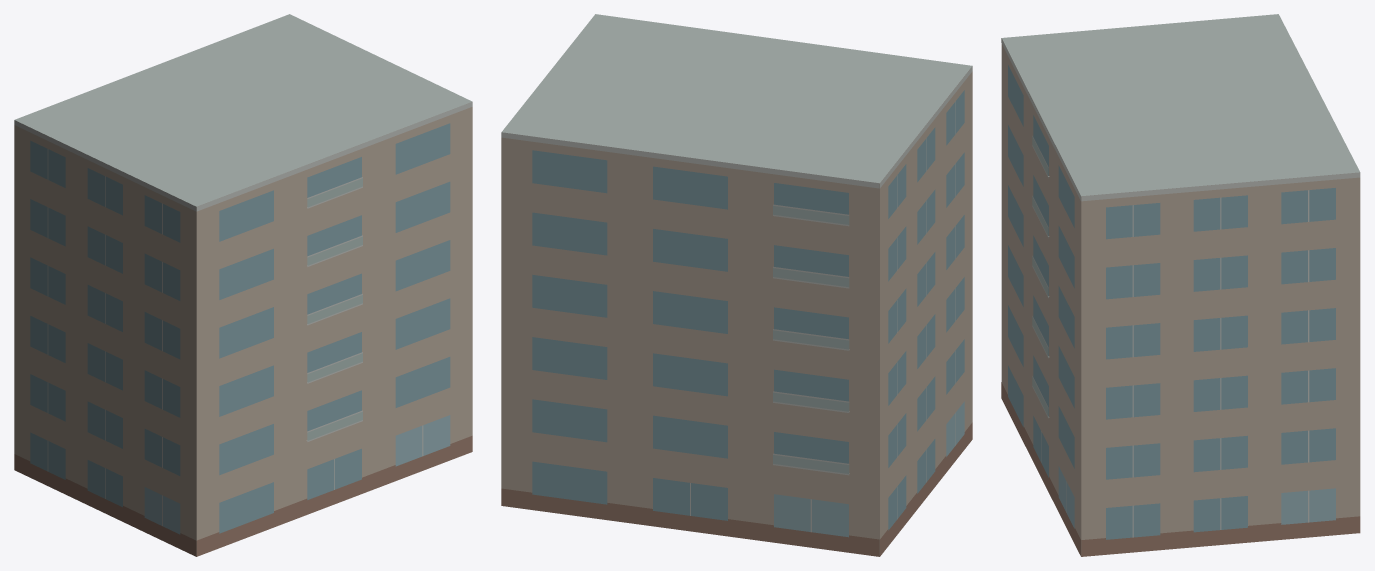
The model's file is survey-upis-32506813.glb.
3 renders of one model, left to right at view 1: azimuth 30°, elevation 25°; view 2: azimuth 150°, elevation 25°; view 3: azimuth 270°, elevation 25°, orthographic. The views are drawn at different scales.
Visible parts, largest first — view 1: survey-upis-32506813.tmp; view 2: survey-upis-32506813.tmp; view 3: survey-upis-32506813.tmp.
Boxes of the visible parts, box(x1,y1,x2,y2) form: survey-upis-32506813.tmp: box(14, 14, 472, 556); survey-upis-32506813.tmp: box(501, 14, 972, 556); survey-upis-32506813.tmp: box(1001, 14, 1360, 556).
Size of the model in its own units: 18.64 by 17.2 by 15.52.
